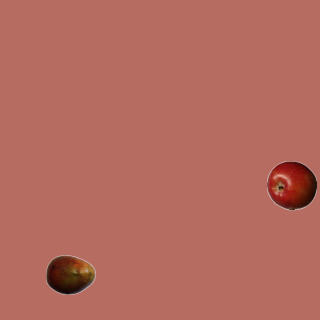Apple Braeburn: (266, 160, 316, 210)
Mango Red: (45, 249, 95, 299)
